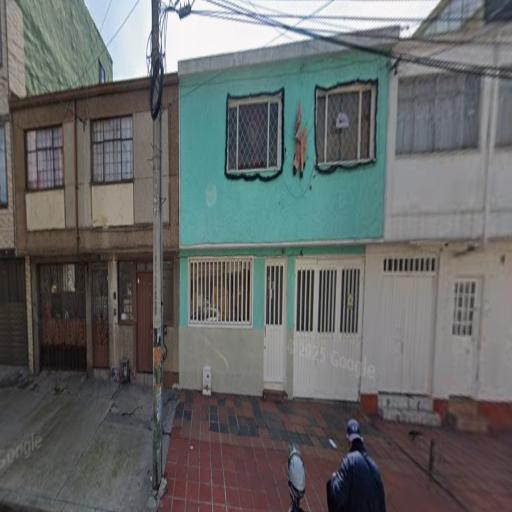Casa: (155, 11, 399, 402), (360, 0, 512, 402), (11, 79, 157, 377), (161, 76, 181, 392)
postes: (147, 0, 193, 500)
